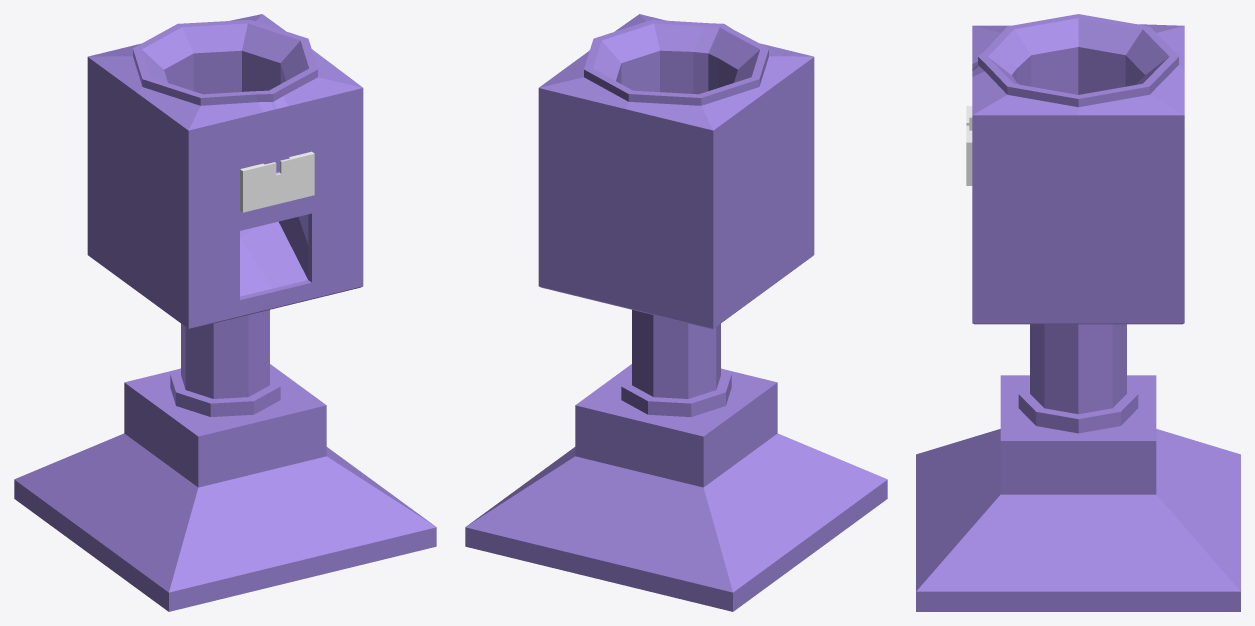
Rendered from cacharro2.glb.
3 views of the same model, side by side, from view 1: azimuth 30°, elevation 25°; view 2: azimuth 150°, elevation 25°; view 3: azimuth 270°, elevation 25° (orthographic). The views are drawn at different scales.
Parts seen in each view (by area): view 1: cacharro; view 2: cacharro; view 3: cacharro.
Boxes of the visible parts, x1,y1,x2,y2 form: cacharro: [14, 14, 436, 611]; cacharro: [465, 14, 887, 611]; cacharro: [916, 14, 1240, 611].
Size of the model in its own units: 0.9044 by 1.5 by 0.9044.
